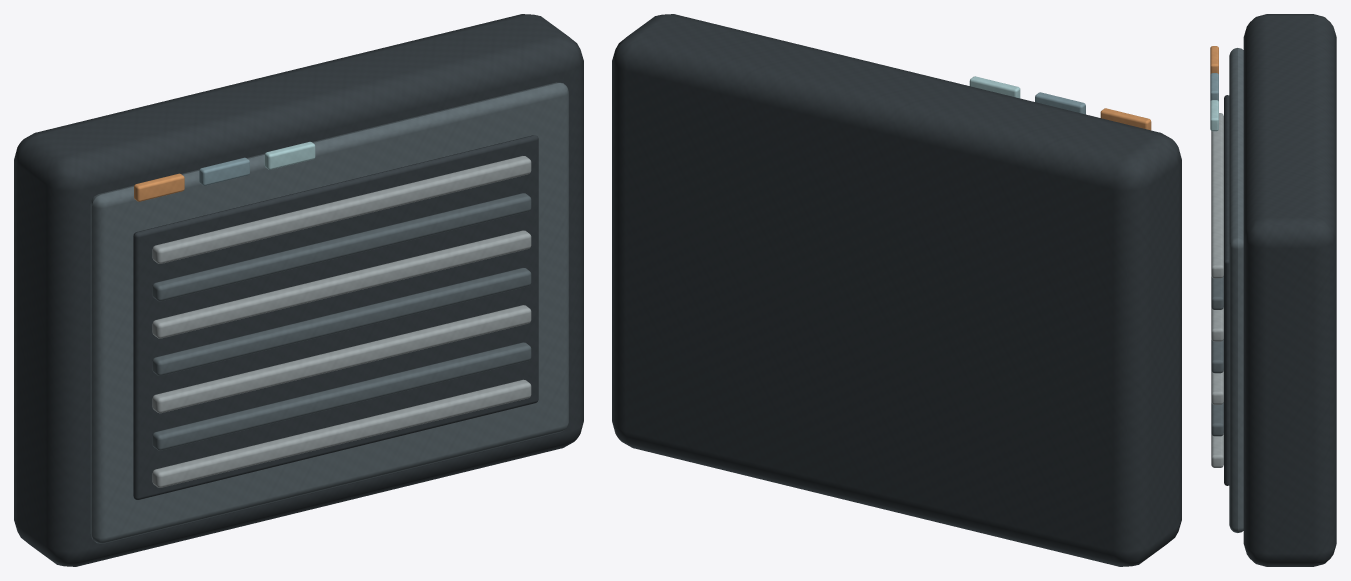
The model's file is WallVent.fbx.
3 renders of one model, left to right at view 1: azimuth 30°, elevation 25°; view 2: azimuth 150°, elevation 25°; view 3: azimuth 270°, elevation 25°, orthographic. The views are drawn at different scales.
Parts seen in each view (by area): view 1: WallVent_Mesh; view 2: WallVent_Mesh; view 3: WallVent_Mesh.
Part boxes in pixels (box(x1,y1,x2,y2)): WallVent_Mesh: box(14, 14, 583, 566); WallVent_Mesh: box(612, 14, 1181, 566); WallVent_Mesh: box(1210, 14, 1336, 566).
Bounding box in the file's own units: 90 × 66 × 21.75.
Materials: 6 (6 with a texture image).
